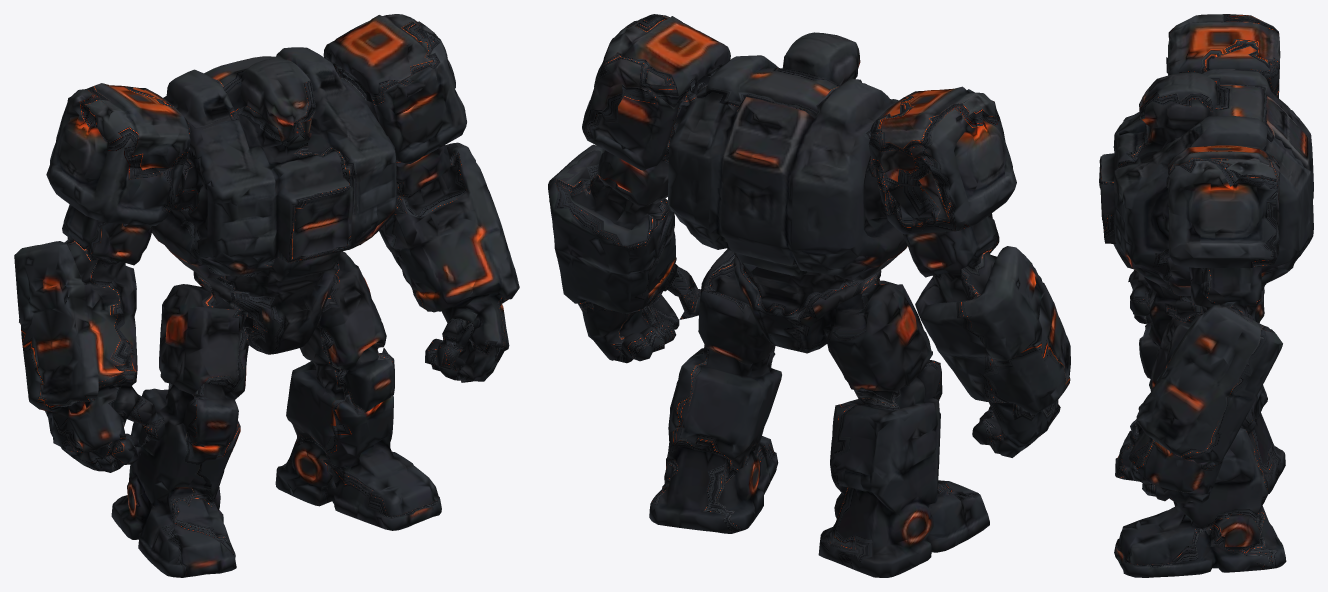
File: statue-5.glb
3 views of the same model, side by side, from view 1: azimuth 30°, elevation 25°; view 2: azimuth 150°, elevation 25°; view 3: azimuth 270°, elevation 25° (orthographic). The views are drawn at different scales.
Parts seen in each view (by area): view 1: body; view 2: body; view 3: body.
Part boxes in pixels (left/top/right/bottom): body: left=14, top=14, right=519, bottom=577; body: left=548, top=14, right=1070, bottom=577; body: left=1099, top=14, right=1313, bottom=577.
Size of the model in its own units: 1.09 by 1 by 0.4459.
1 material, 1 textured.
